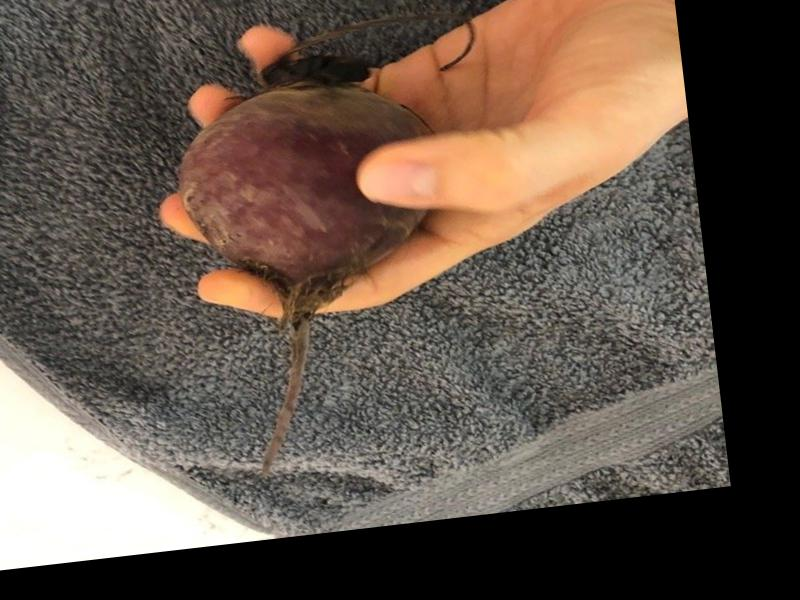Beet: (165, 44, 471, 485)
